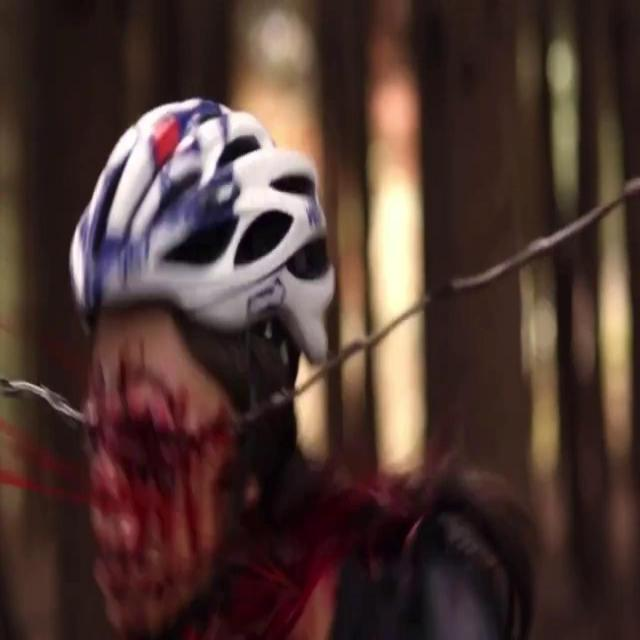flood: (14, 346, 330, 640)
